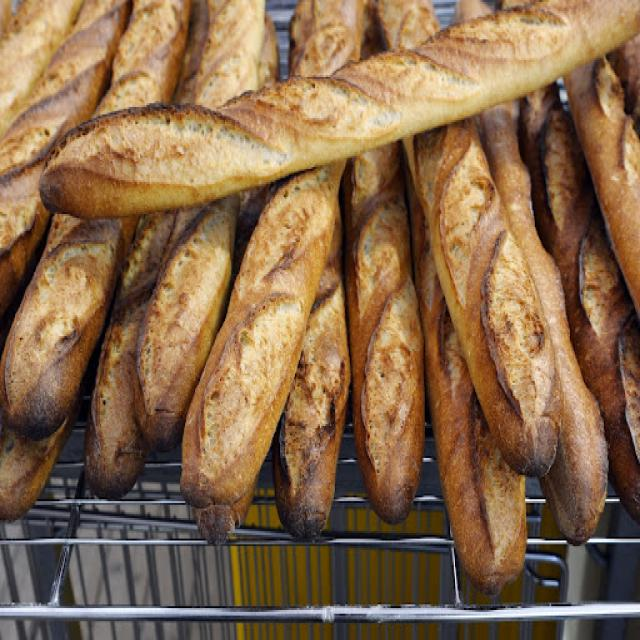Baguette: (40, 0, 639, 216), (181, 161, 345, 539), (402, 120, 558, 471), (410, 182, 526, 593), (0, 214, 136, 439), (344, 146, 424, 520), (135, 195, 238, 449), (272, 210, 350, 537), (84, 214, 172, 497)
